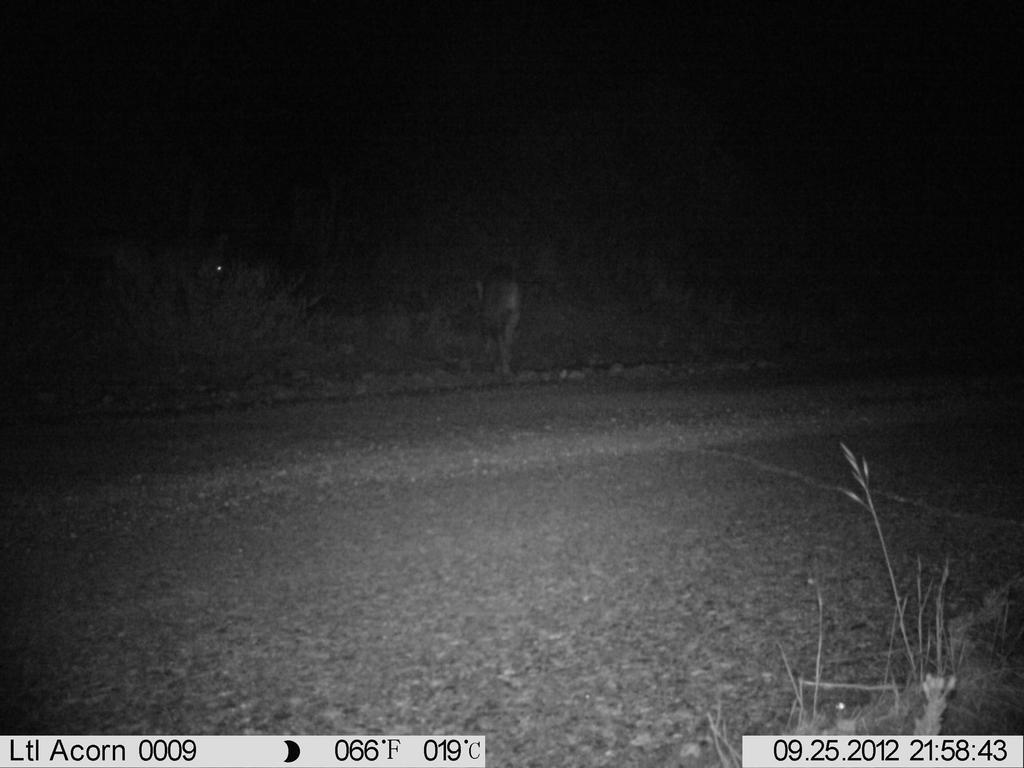coyote: (447, 254, 559, 389)
